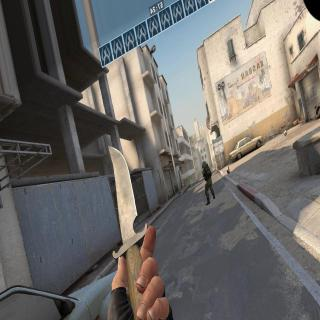CT-Body: (201, 159, 214, 198)
CT-Head: (202, 160, 206, 167)
